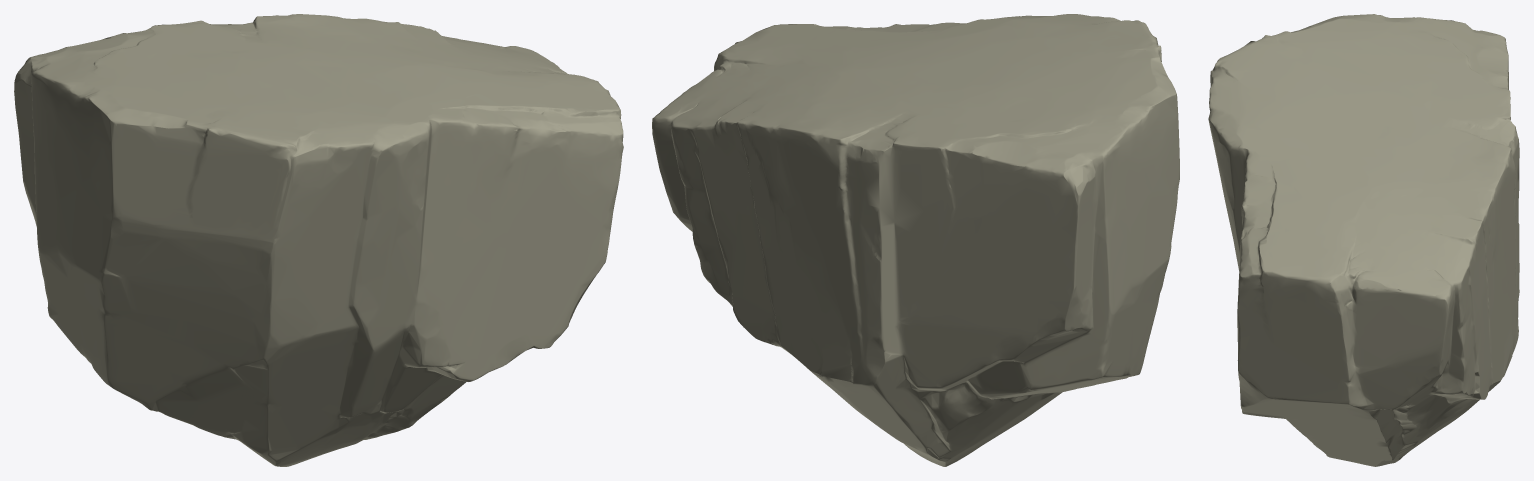
3 views of the same model, side by side, from view 1: azimuth 30°, elevation 25°; view 2: azimuth 150°, elevation 25°; view 3: azimuth 270°, elevation 25° (orthographic). The views are drawn at different scales.
Parts seen in each view (by area): view 1: SM_BM_Cliff_Top_03_LOD0; view 2: SM_BM_Cliff_Top_03_LOD0; view 3: SM_BM_Cliff_Top_03_LOD0.
Part boxes in pixels (box(x1,y1,x2,y2)): SM_BM_Cliff_Top_03_LOD0: box(14, 14, 623, 466); SM_BM_Cliff_Top_03_LOD0: box(652, 14, 1179, 466); SM_BM_Cliff_Top_03_LOD0: box(1208, 14, 1519, 466).
Size of the model in its own units: 23.09 by 19.19 by 15.
